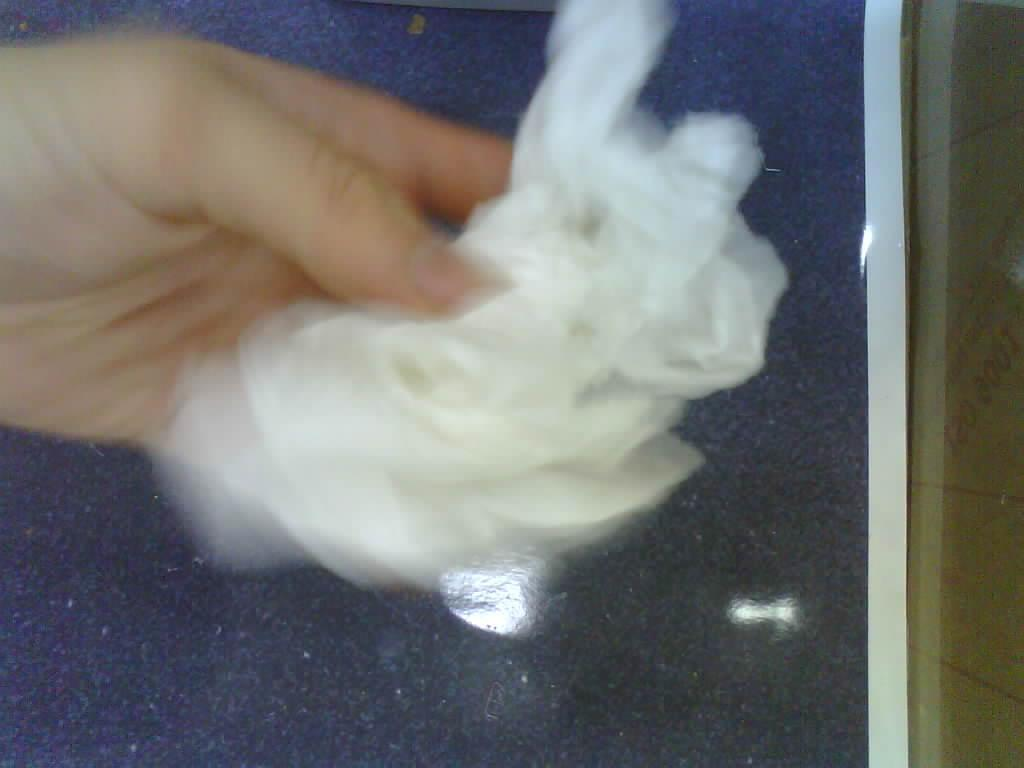paper: (154, 3, 786, 630)
